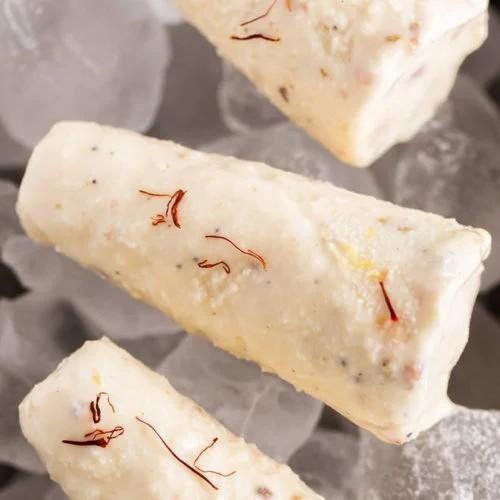Kulfi: (19, 122, 497, 448), (15, 331, 361, 500), (173, 0, 494, 170)
